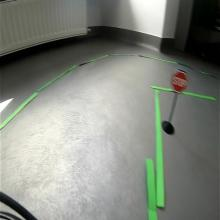stop: (171, 69, 189, 94)
